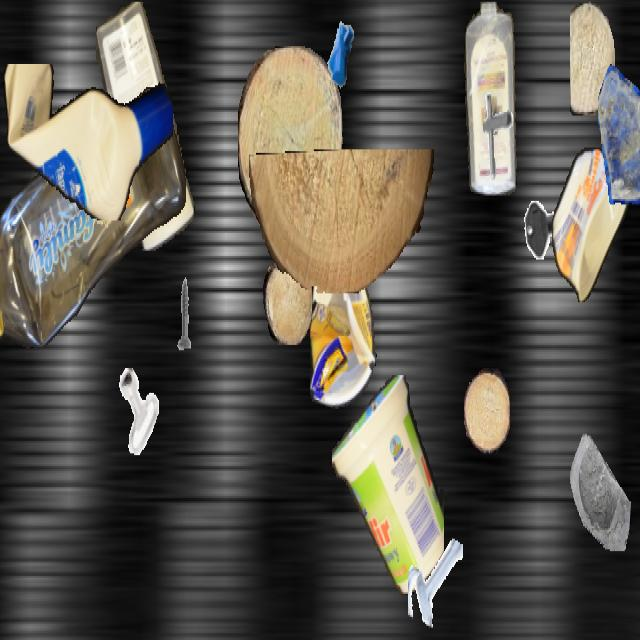glass: (557, 418, 631, 549), (598, 52, 640, 208)
metal: (313, 2, 367, 98), (408, 530, 462, 626), (468, 87, 522, 183), (113, 368, 161, 453), (522, 190, 564, 265), (163, 276, 205, 350), (70, 183, 108, 251)
plastic: (0, 83, 186, 364), (0, 64, 172, 220), (92, 2, 198, 250), (332, 375, 444, 596), (552, 147, 630, 300), (310, 235, 378, 409), (462, 2, 520, 194)
wood: (249, 150, 435, 292), (238, 46, 342, 231), (570, 1, 614, 116), (263, 258, 311, 343), (464, 368, 510, 453)
